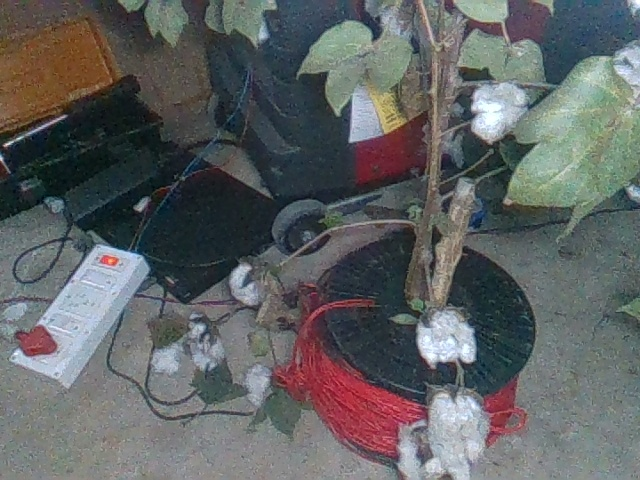cotton: (429, 388, 490, 475), (415, 308, 479, 365), (472, 82, 531, 138)
